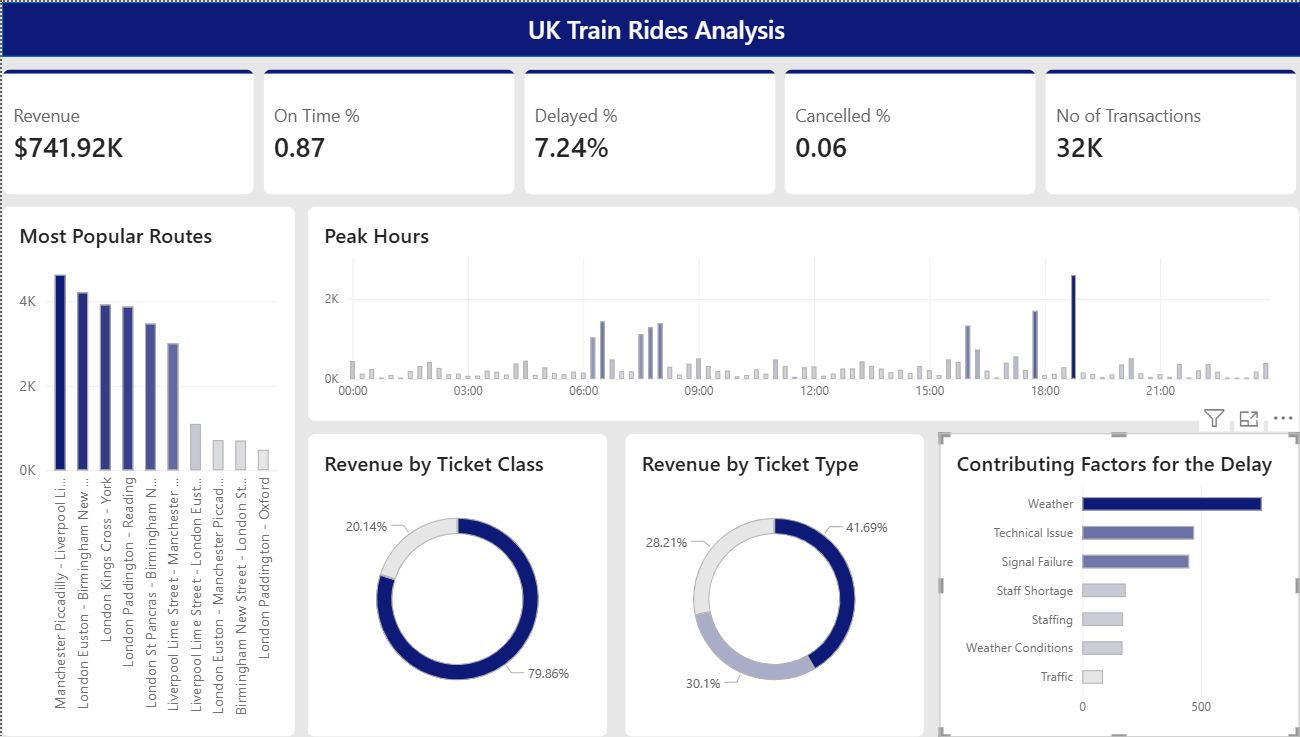

What the dashboard file says about the page in this screenshot:
{"tool":"powerbi","page":{"name":"Page 1","canvas":[1280,720],"ordinal":0},"visuals":[{"type":"shape","box":[0,0,1280.3,53.5],"z":0},{"type":"columnChart","title":"Most Popular Routes","fields":{"Category":["railway.Route"],"Y":["Key Measures.No of Transactions"]},"box":[0,199.3,287.4,520.9],"z":1},{"type":"columnChart","title":"Peak Hours","fields":{"Y":["Key Measures.No of Transactions"],"Category":["railway.Departure Time"]},"box":[298.4,199.3,970.9,211.6],"z":2},{"type":"donutChart","fields":{"Y":["Key Measures.Revenue"],"Category":["railway.Ticket Class"]},"box":[298.4,421.9,294.7,298.4],"z":3},{"type":"donutChart","fields":{"Y":["Key Measures.Revenue"],"Category":["railway.Ticket Type"]},"box":[609,421.9,293.5,298.4],"z":4},{"type":"clusteredBarChart","title":"Contributing Factors for the Delay","fields":{"Category":["railway.Reason for Delay"],"Y":["Key Measures.No of delays"]},"box":[917.1,421.9,352.2,298.4],"z":5},{"type":"cardVisual","fields":{"Data":["Key Measures.Revenue","Key Measures.On Time %","Key Measures.Delayed %","Key Measures.Cancelled %","Key Measures.No of Transactions"]},"box":[0,66,1269.3,123.5],"z":6}]}

Visuals, with their boxes in screenshot pixels (x1, y1, x2, y2), scaled from the page's 1280x720 canvas onto the 1300x737 screenshot:
shape: bbox(0, 0, 1299, 55)
"Most Popular Routes" columnChart: bbox(0, 204, 292, 736)
"Peak Hours" columnChart: bbox(303, 204, 1289, 421)
donutChart - Key Measures.Revenue x railway.Ticket Class: bbox(303, 432, 602, 736)
donutChart - Key Measures.Revenue x railway.Ticket Type: bbox(619, 432, 917, 736)
"Contributing Factors for the Delay" clusteredBarChart: bbox(931, 432, 1289, 736)
cardVisual - Key Measures.Revenue x Key Measures.On Time %: bbox(0, 68, 1289, 194)
